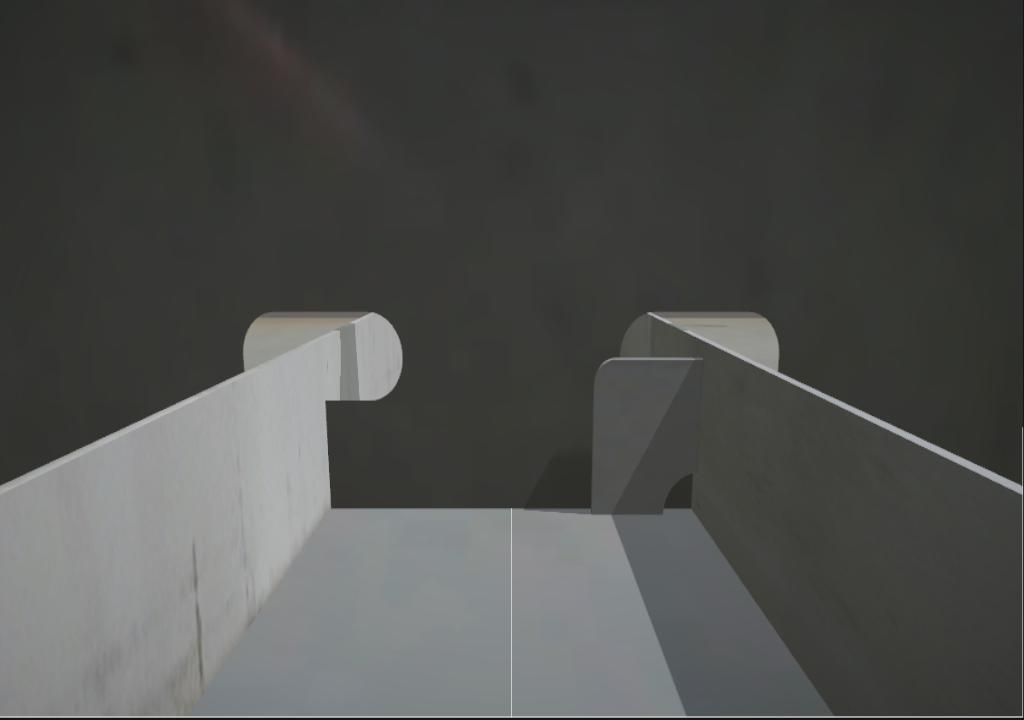fillet_yong_jeop_jang: (330, 504, 693, 511)
longi_yong_jeop_jang: (321, 399, 336, 512)
plate_CP06: (591, 358, 702, 515)
